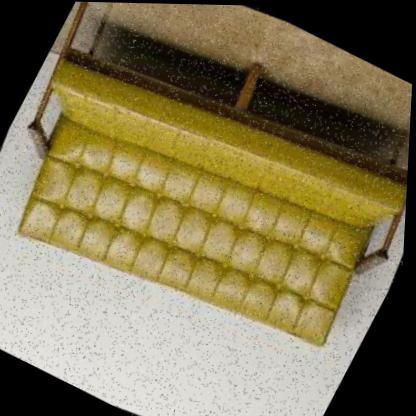Sofa: (0, 0, 416, 412)
